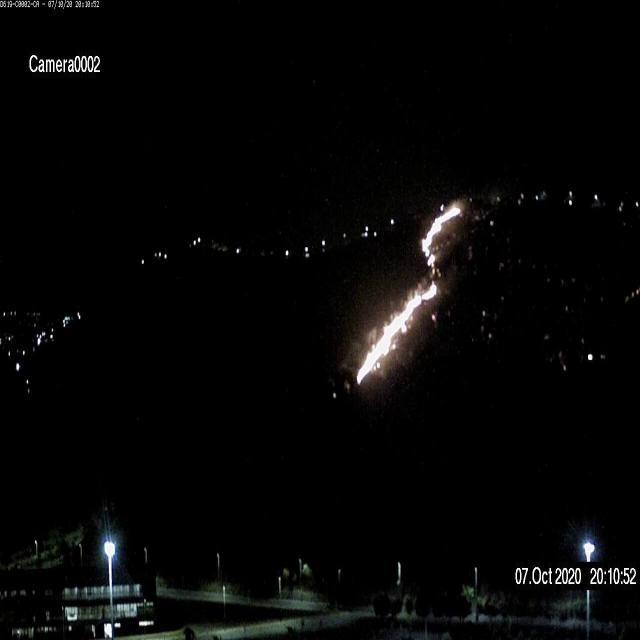Fire: (352, 201, 464, 375)
